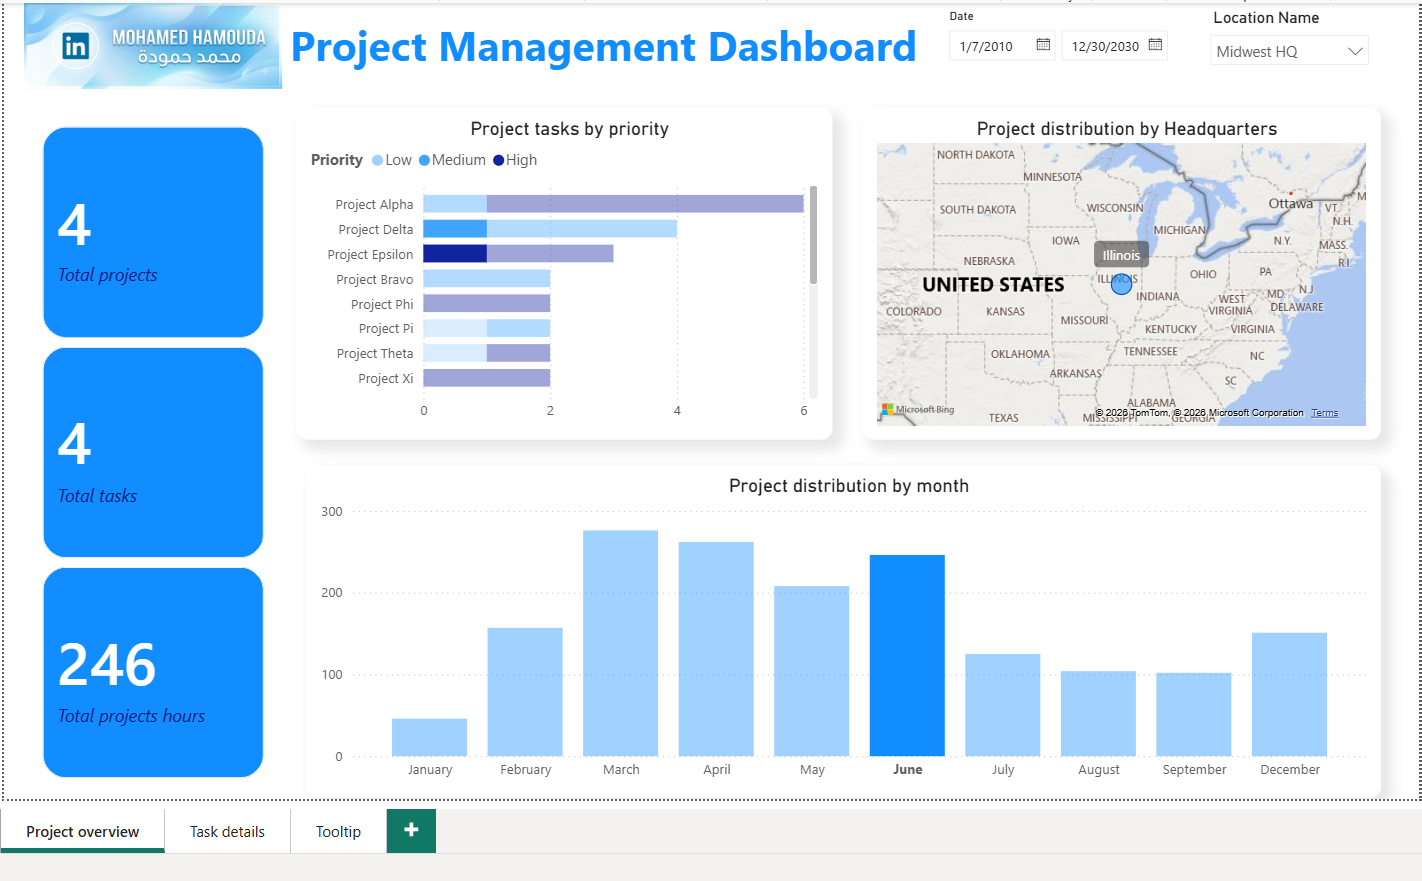

What the dashboard file says about the page in this screenshot:
{"tool":"powerbi","page":{"name":"Project overview","canvas":[1280,720],"ordinal":0},"visuals":[{"type":"image","box":[18.6,0,233.7,77.9],"z":0},{"type":"textbox","box":[252.3,8.1,589.5,69.8],"z":1000},{"type":"barChart","title":"Project tasks by priority","fields":{"Category":["Projects.ProjectName"],"Y":["CountNonNull(Project_Tasks.TaskID)"],"Series":["Project_Tasks.Priority"]},"box":[265.1,95.3,484.9,300],"z":2000},{"type":"map","title":"Project distribution by Headquarters","fields":{"Category":["Location2.State/ Province"],"Size":["CountNonNull(Project_Tasks.ProjectID)"]},"box":[776.7,95.3,468.6,300],"z":3000},{"type":"columnChart","title":"Project distribution by month","fields":{"Category":["Date.Month"],"Y":["Sum(Project_Tasks.NumberOfHours)"]},"box":[273.3,418.6,972.1,301.2],"z":4000},{"type":"cardVisual","fields":{"Data":["Count(Project_Tasks.ProjectID)","CountNonNull(Project_Tasks.TaskID)","Sum(Project_Tasks.NumberOfHours)"]},"box":[18.6,95.3,234.9,624.4],"z":5000},{"type":"slicer","fields":{"Values":["Date.Date"]},"box":[841.9,0,239.5,77.9],"z":6000},{"type":"slicer","fields":{"Values":["Location2.Location Name"]},"box":[1081.4,0,164,77.9],"z":7000}]}

Visuals, with their boxes on the page's 1280x720 design canvas (x1, y1, x2, y2). These are canvas units, not pixel positions in the 1422x881 screenshot, which may show the page scaled, cropped or inside an application window:
image: BBox(19, 0, 252, 78)
textbox: BBox(252, 8, 842, 78)
"Project tasks by priority" barChart: BBox(265, 95, 750, 395)
"Project distribution by Headquarters" map: BBox(777, 95, 1245, 395)
"Project distribution by month" columnChart: BBox(273, 419, 1245, 720)
cardVisual - Count(Project_Tasks.ProjectID) x CountNonNull(Project_Tasks.TaskID): BBox(19, 95, 254, 720)
slicer - Date.Date: BBox(842, 0, 1081, 78)
slicer - Location2.Location Name: BBox(1081, 0, 1245, 78)
